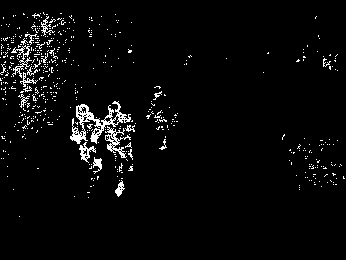person: (103, 100, 136, 200), (70, 101, 103, 186), (146, 82, 178, 151)
